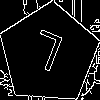L: (24, 29, 65, 82)
